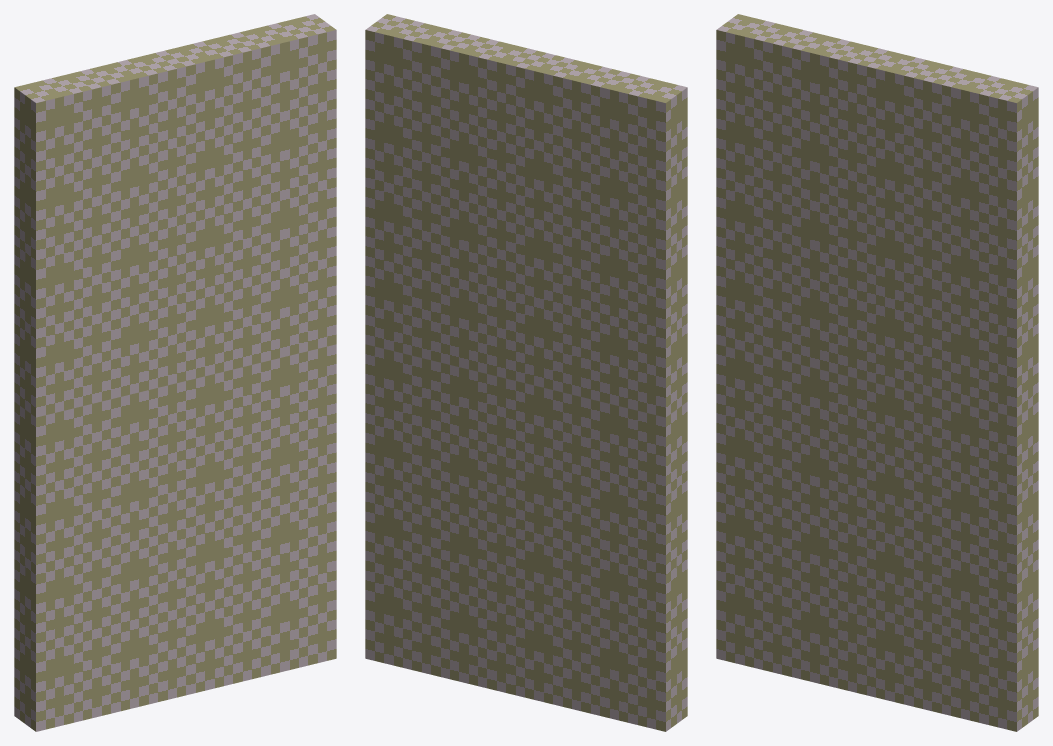
File: wall_textured_a_2_col.gltf
The picture shows the model from 3 angles, left to right: view 1: azimuth 30°, elevation 25°; view 2: azimuth 150°, elevation 25°; view 3: azimuth 330°, elevation 25°; orthographic projection.
Parts seen in each view (by area): view 1: wall_textured_a_2_col; view 2: wall_textured_a_2_col; view 3: wall_textured_a_2_col.
Boxes of the visible parts, x1,y1,x2,y2 form: wall_textured_a_2_col: (14,14,336,731); wall_textured_a_2_col: (365,14,687,731); wall_textured_a_2_col: (716,14,1038,731).
Bounding box in the file's own units: 2 × 4 × 0.25.
Materials: 1 (1 with a texture image).
